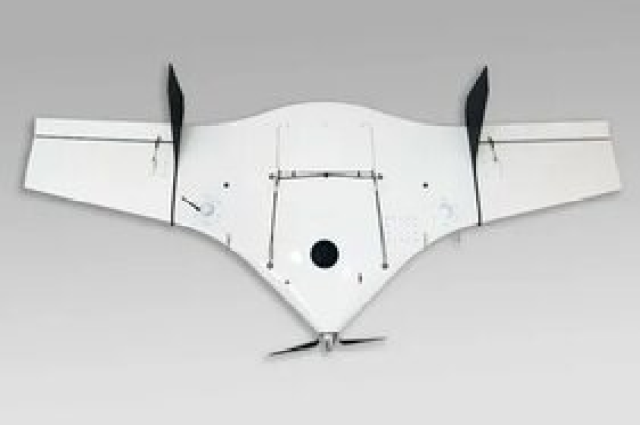military drone: (22, 61, 621, 356)
